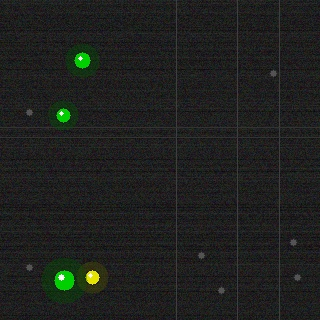green_normal: (52, 268, 76, 292), (72, 50, 92, 70), (54, 106, 72, 124)
yellow_warning: (83, 268, 101, 286)
